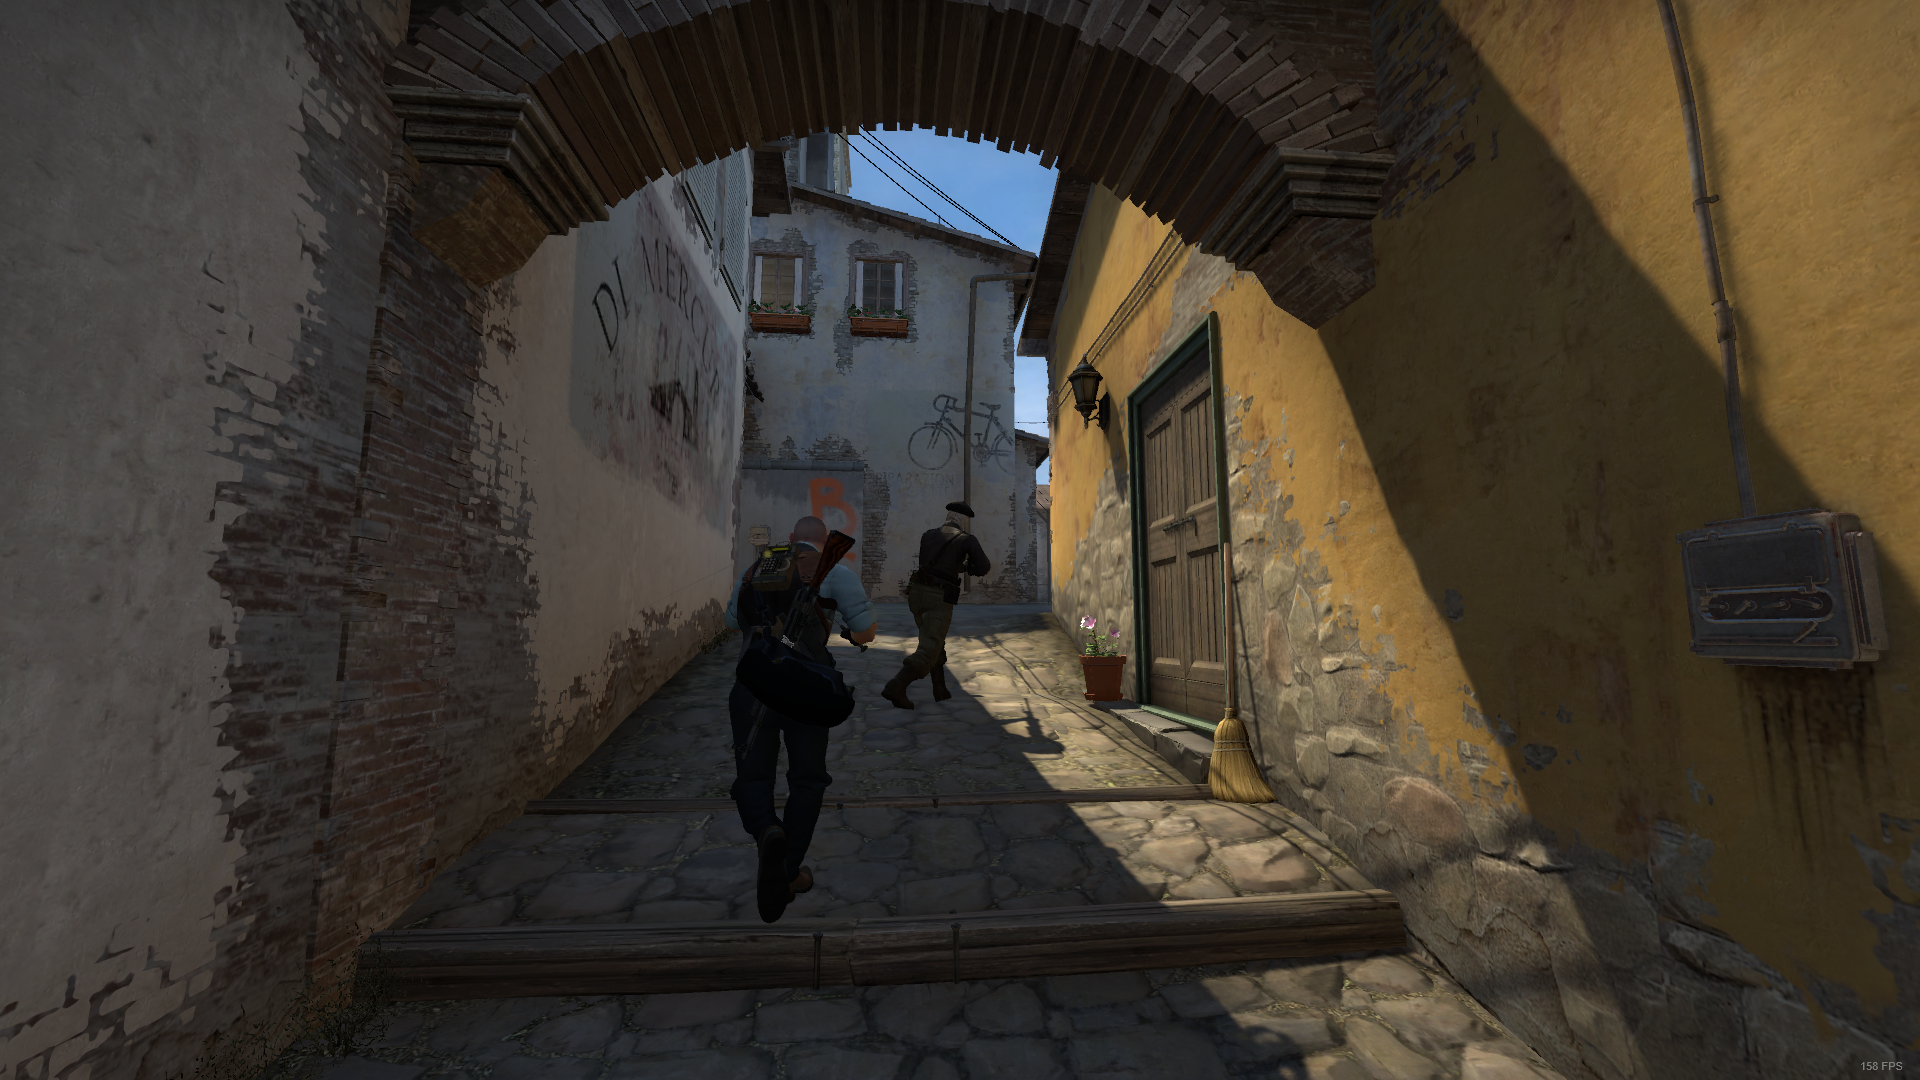t: (882, 498, 996, 719)
